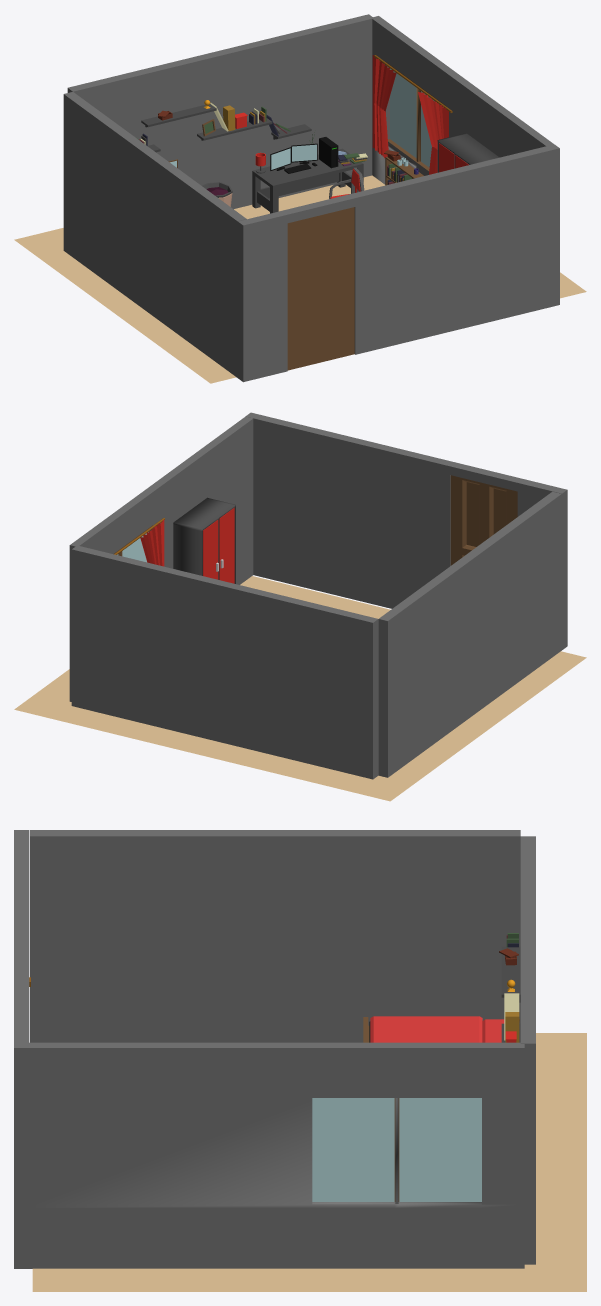
Rendered from BedroomV3.fbx.
The picture shows the model from 3 angles, top to bottom: view 1: azimuth 30°, elevation 25°; view 2: azimuth 150°, elevation 25°; view 3: azimuth 270°, elevation 25°; orthographic projection. The views are drawn at different scales.
Parts seen in each view (by area): view 1: Wall.002, Wall.001, Wall, WallWindow, Cube.002, Floor, WallWindow.001, Desk, Wardrobe, Bookshelf, Shelves.003, PC (+1 smaller); view 2: Wall, Wall.002, Wall.001, Floor, WallWindow, Cube.002, Wardrobe, WardrobeDoorR, WardrobeDoorL, WallWindow.001; view 3: WallWindow, Wall.001, Floor, Wall.002, Wall, Bed, Shelves.003.
Part boxes in pixels (<box>): Wall.002: <box>237,144,559,382</box>; Wall.001: <box>63,92,246,377</box>; Wall: <box>67,14,373,209</box>; WallWindow: <box>372,16,553,184</box>; Cube.002: <box>287,207,354,370</box>; Floor: <box>14,175,586,383</box>; WallWindow.001: <box>372,55,448,174</box>; Desk: <box>252,148,363,213</box>; Wardrobe: <box>437,133,499,172</box>; Bookshelf: <box>385,156,423,185</box>; Shelves.003: <box>141,104,216,127</box>; PC: <box>319,137,338,168</box>; Wall: <box>71,545,378,779</box>; Wall.002: <box>245,412,567,649</box>; Wall.001: <box>378,491,561,777</box>; Floor: <box>14,576,586,801</box>; WallWindow: <box>69,416,253,701</box>; Cube.002: <box>450,475,517,565</box>; Wardrobe: <box>173,497,235,583</box>; WardrobeDoorR: <box>219,507,234,583</box>; WardrobeDoorL: <box>203,520,218,579</box>; WallWindow.001: <box>140,520,164,566</box>; WallWindow: <box>27,1042,524,1268</box>; Wall.001: <box>30,830,520,1042</box>; Floor: <box>32,1033,586,1291</box>; Wall.002: <box>14,830,29,1268</box>; Wall: <box>520,836,535,1264</box>; Bed: <box>363,1016,504,1042</box>; Shelves.003: <box>501,947,520,1002</box>.
Size of the model in its own units: 2961 by 1178 by 2769.
